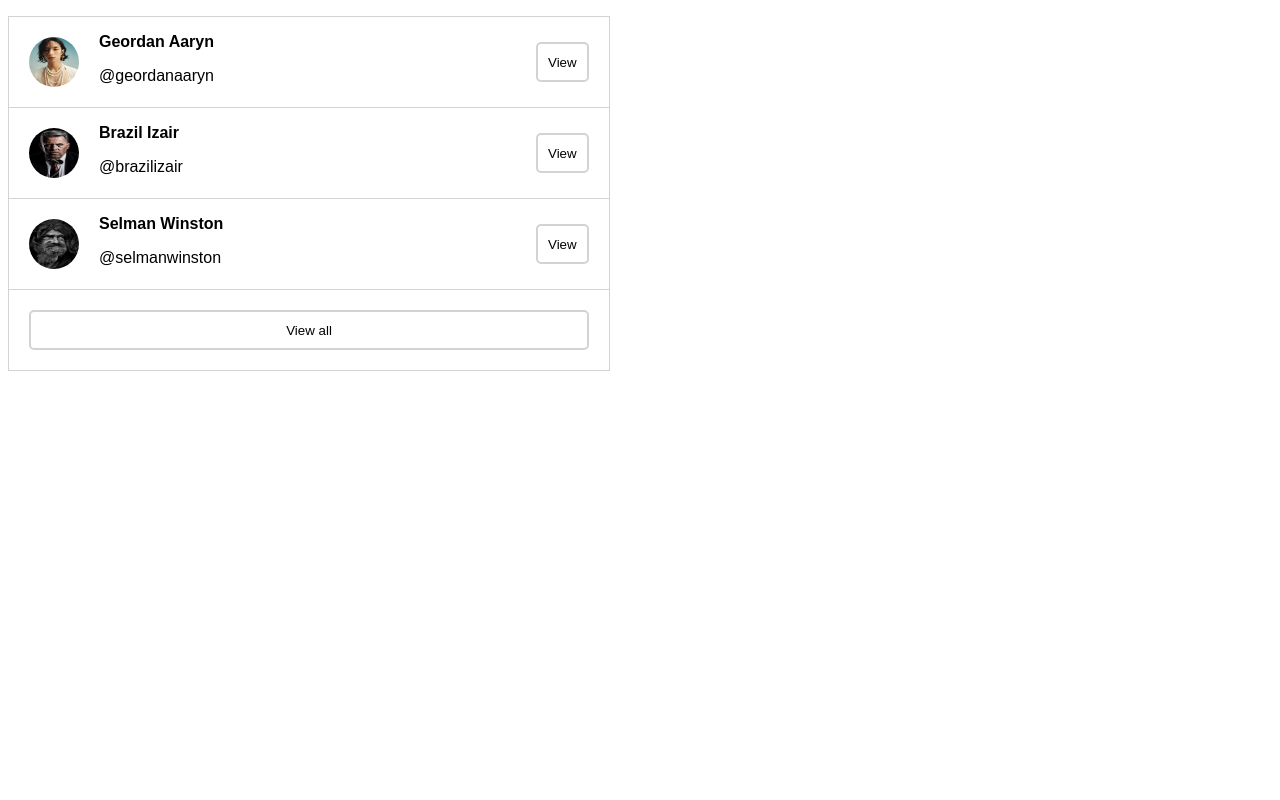
Test: Widget with full user information is displayed after clicking on “View” button on the user widget
Click the button "View" in the row of "Geordan Aaryn". click: [562, 62]
box: [536,42,589,82]
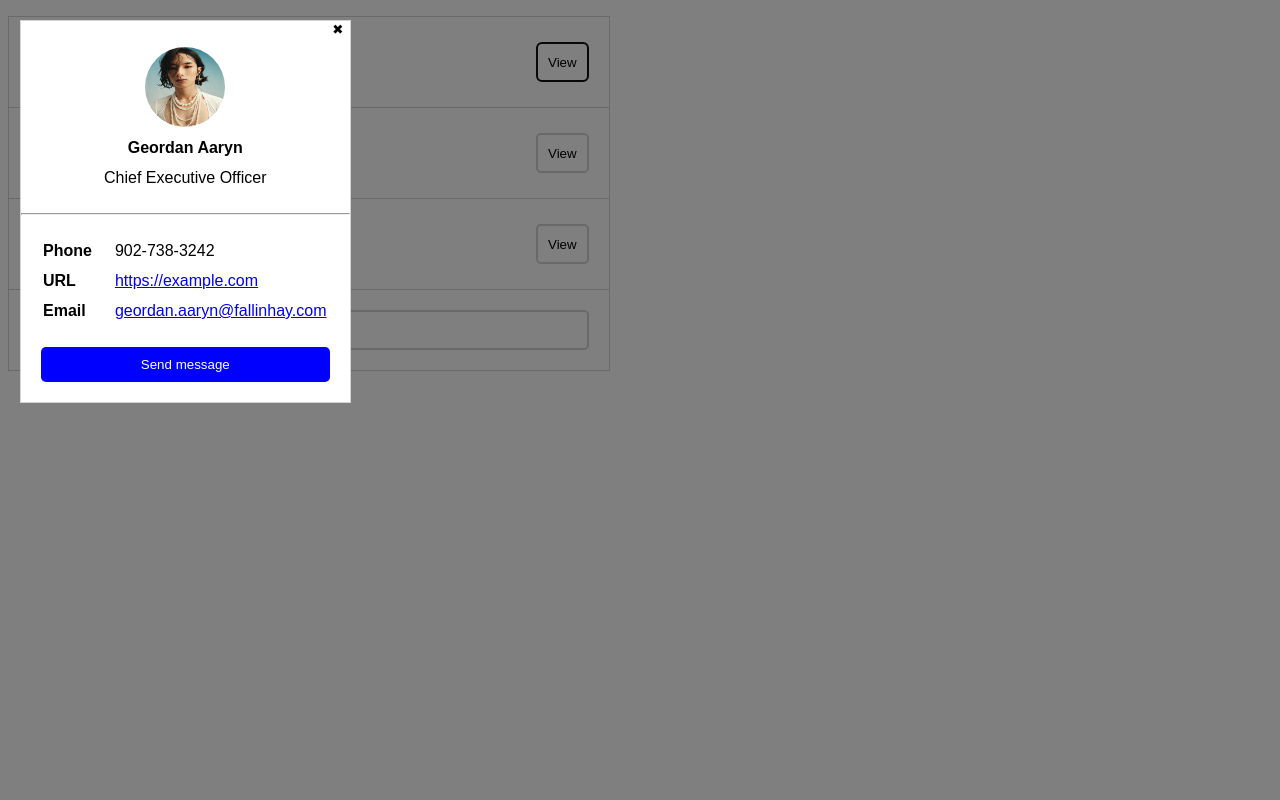
Check: the text "Phone" is shown, box [43,237,112,265]
Check: the text "URL" is shown, box [43,267,112,295]
Check: the text "Email" is shown, box [43,297,112,325]
